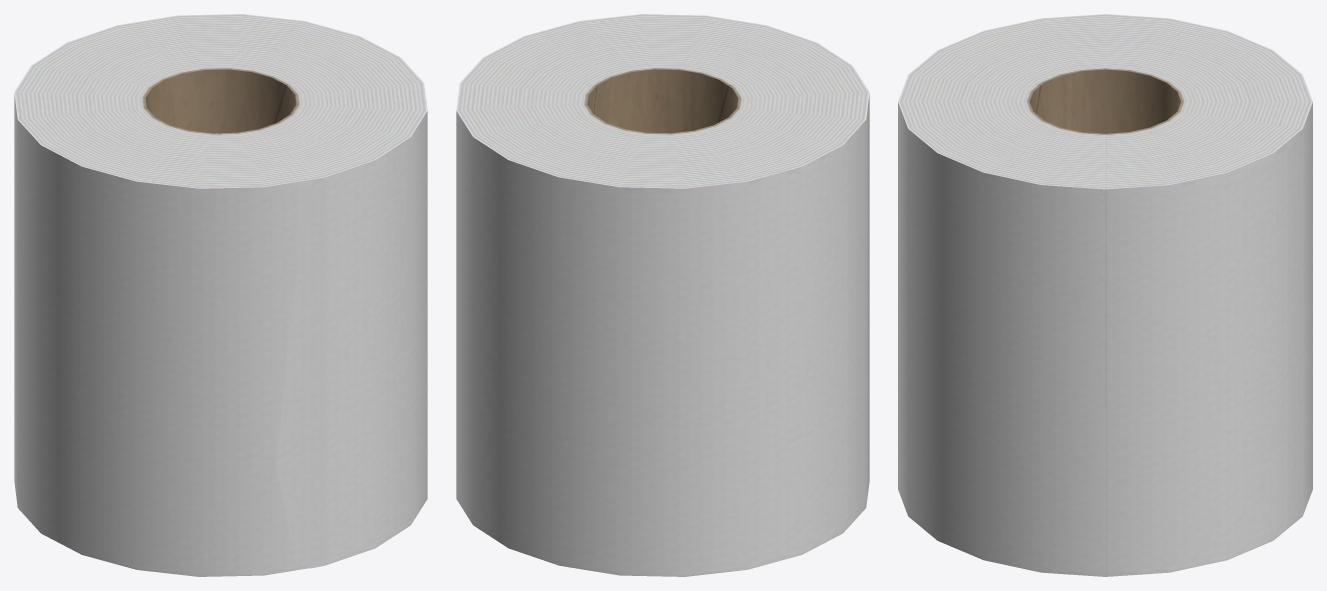
The model's file is SM_Toilet_Roll_01.glb.
The picture shows the model from 3 angles, left to right: view 1: azimuth 30°, elevation 25°; view 2: azimuth 150°, elevation 25°; view 3: azimuth 270°, elevation 25°; orthographic projection.
Parts seen in each view (by area): view 1: SM_Toilet_Roll_01; view 2: SM_Toilet_Roll_01; view 3: SM_Toilet_Roll_01.
Boxes of the visible parts, left/top/right/bottom form: SM_Toilet_Roll_01: left=14, top=14, right=427, bottom=576; SM_Toilet_Roll_01: left=456, top=14, right=869, bottom=576; SM_Toilet_Roll_01: left=898, top=14, right=1312, bottom=576.
Bounding box in the file's own units: 0.157 × 0.1618 × 0.157.
1 material, 1 textured.
